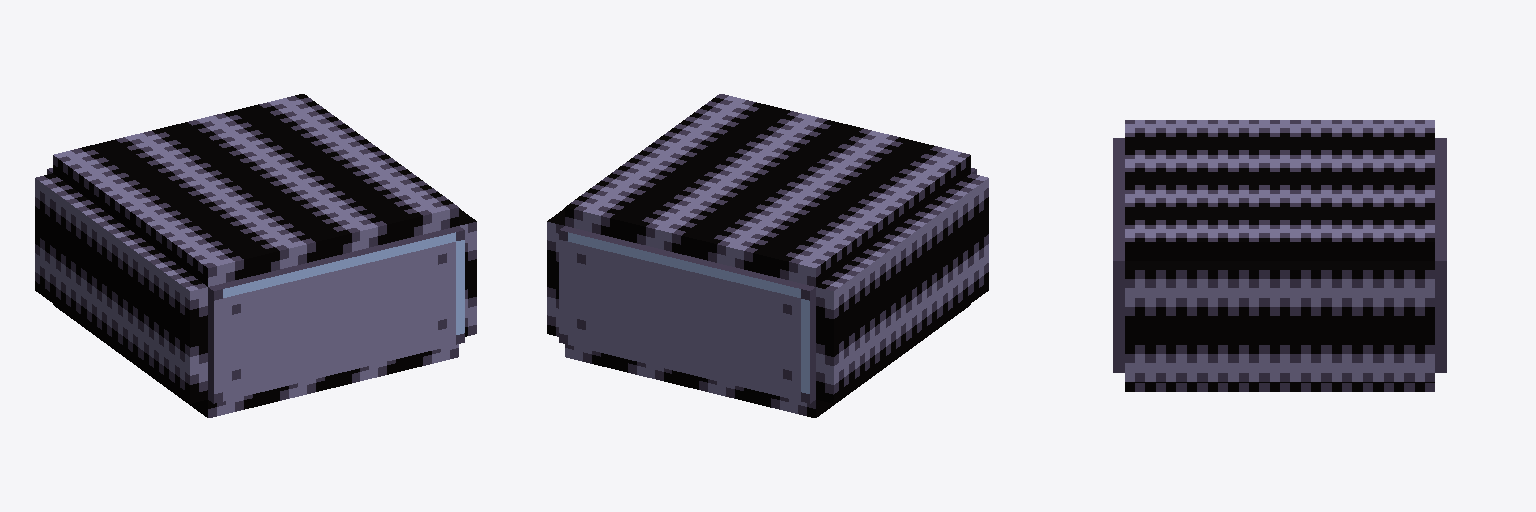
The picture shows the model from 3 angles: view 1: azimuth 30°, elevation 25°; view 2: azimuth 150°, elevation 25°; view 3: azimuth 270°, elevation 25°; orthographic projection.
Parts seen in each view (by area): view 1: MetalTile; view 2: MetalTile; view 3: MetalTile.
Boxes of the visible parts, x1,y1,x2,y2 form: MetalTile: [35, 94, 476, 417]; MetalTile: [547, 94, 988, 417]; MetalTile: [1113, 120, 1446, 391].
Bounding box in the file's own units: 1 × 0.5 × 1.01.
Materials: 2 (1 with a texture image).